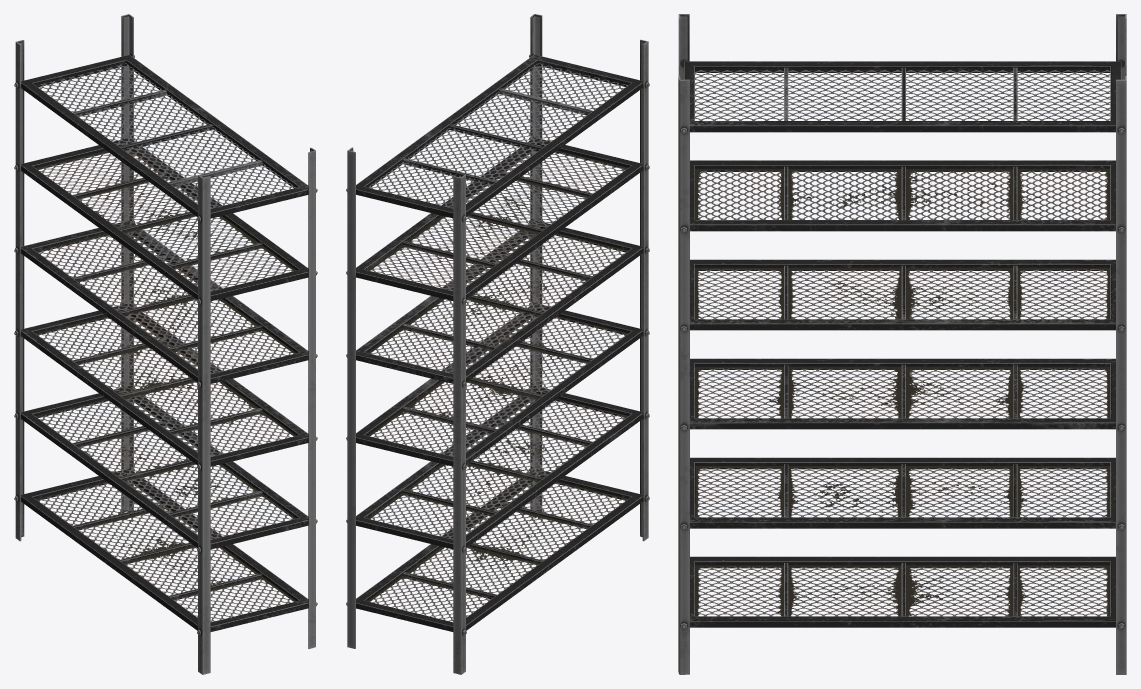
Rendered from shelf.glb.
3 views of the same model, side by side, from view 1: azimuth 30°, elevation 25°; view 2: azimuth 150°, elevation 25°; view 3: azimuth 270°, elevation 25° (orthographic). The views are drawn at different scales.
Visible parts, largest first — view 1: Cloner_1; view 2: Cloner_1; view 3: Cloner_1.
Part boxes in pixels (<box>): Cloner_1: <box>14,14,317,674</box>; Cloner_1: <box>346,14,649,674</box>; Cloner_1: <box>678,14,1126,674</box>.
Bounding box in the file's own units: 0.7591 × 3 × 2.05.
1 material, 1 textured.
